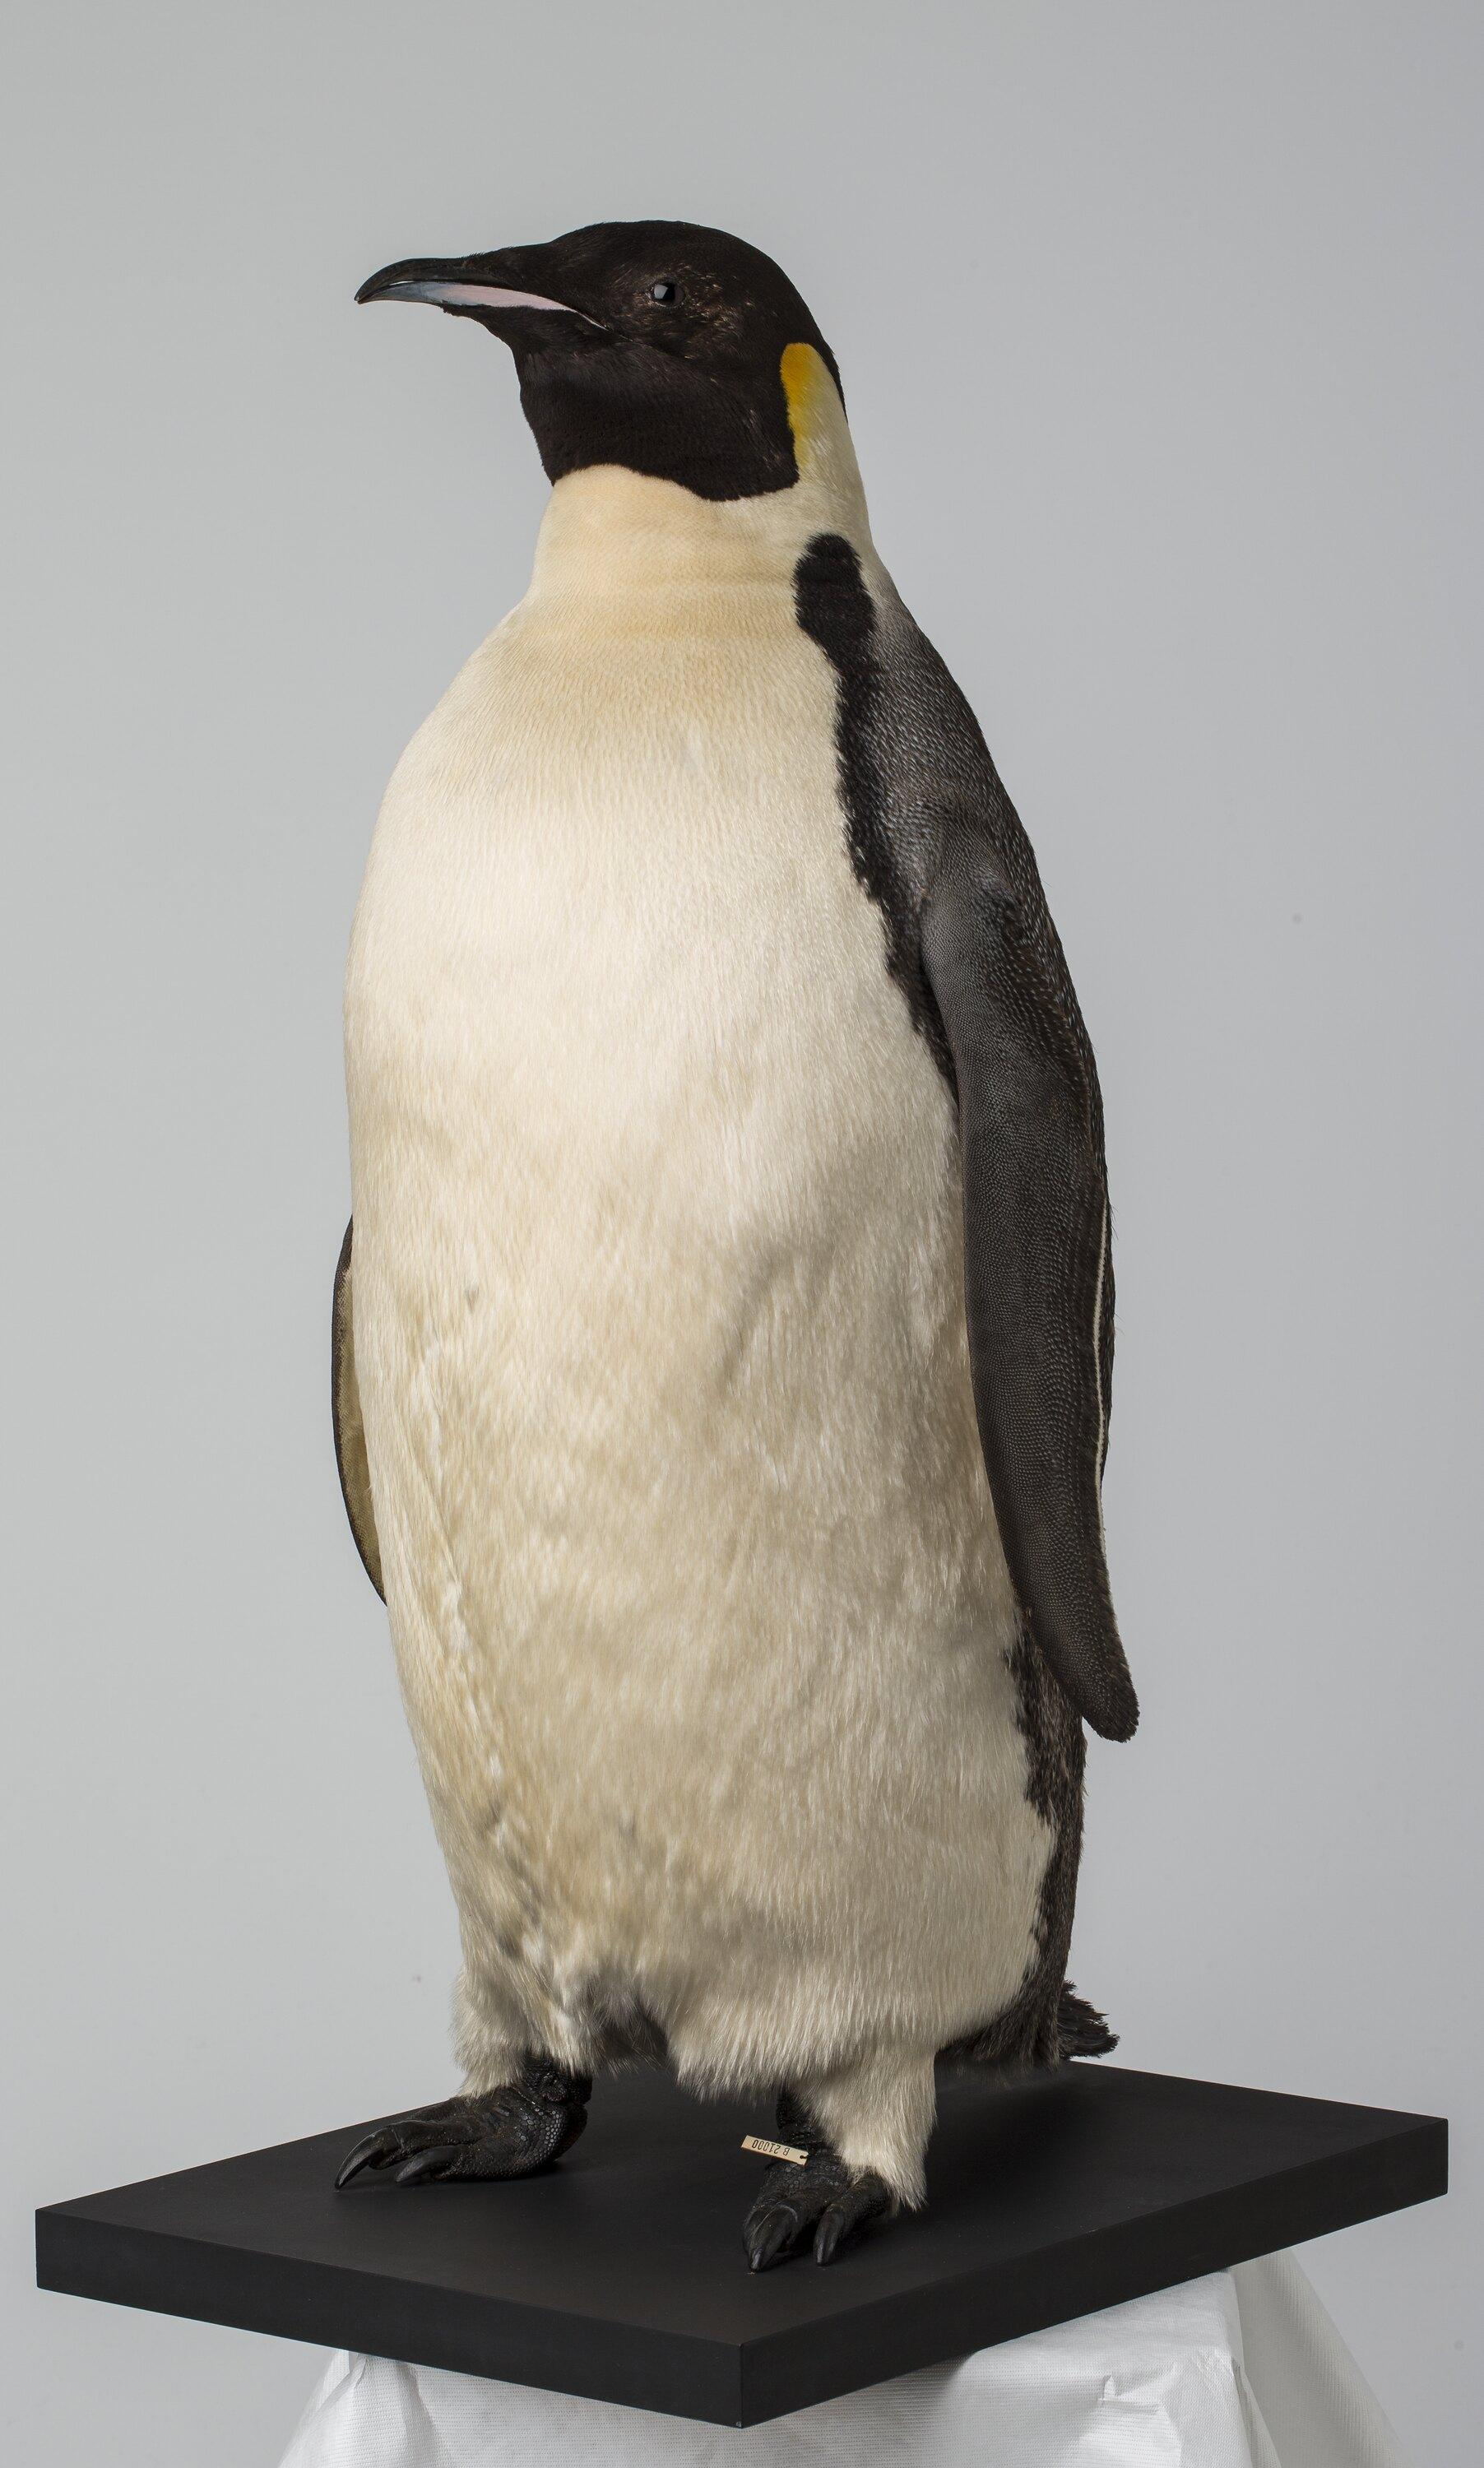emporer: (273, 139, 1235, 2279)
